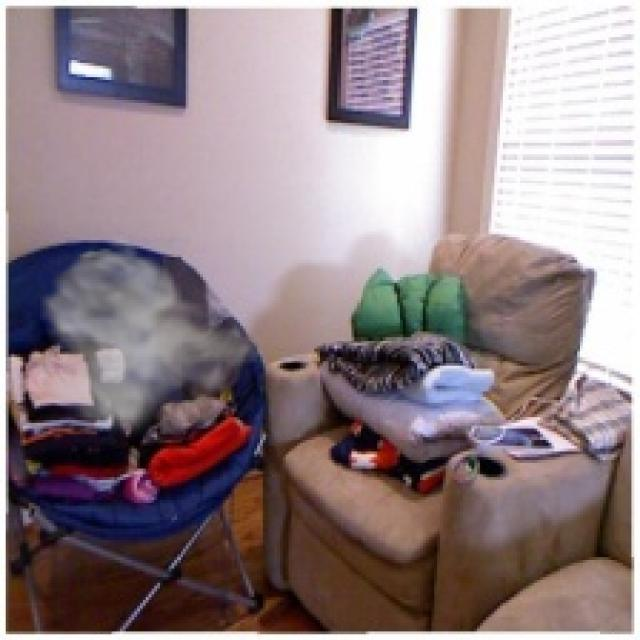smoke: (20, 231, 269, 440)
